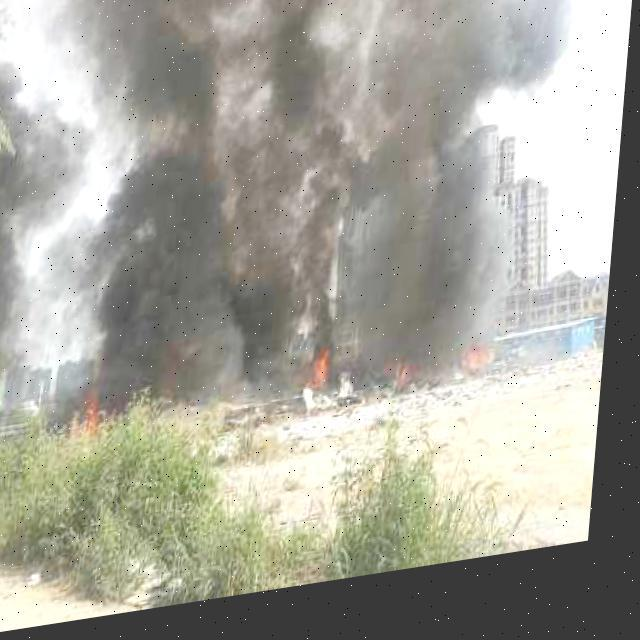Fire: (68, 384, 116, 456), (454, 350, 502, 408), (311, 352, 347, 418), (388, 361, 432, 412)
